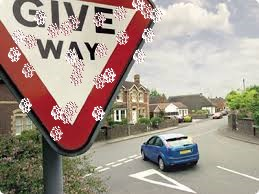giveway: (1, 1, 156, 153), (5, 17, 126, 106), (30, 35, 102, 156), (70, 1, 138, 122)
